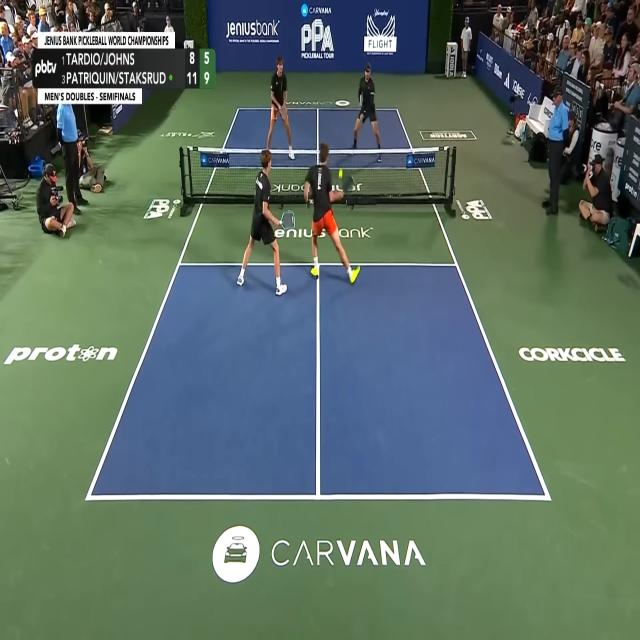ball: (338, 168, 343, 179)
